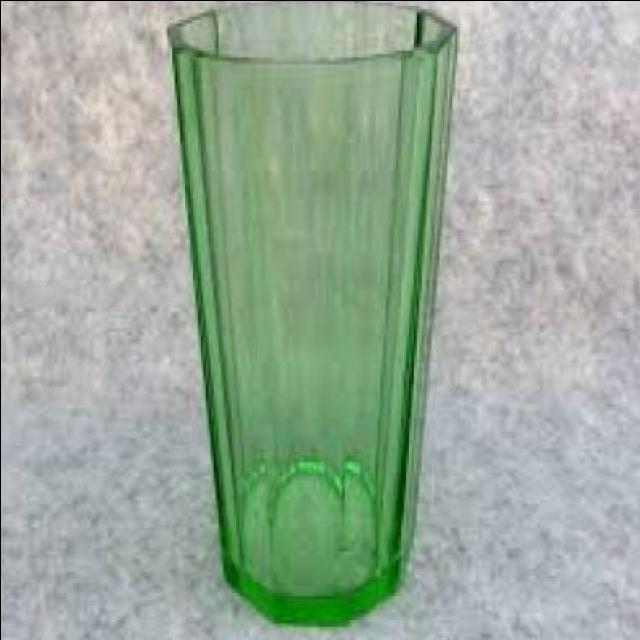kaca: (168, 0, 459, 619)
